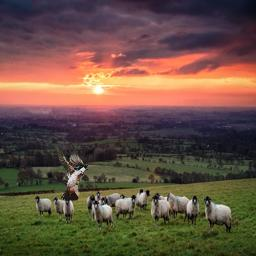Swallow: (55, 145, 88, 201)
